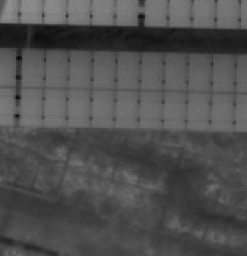solar: (18, 47, 47, 89), (42, 47, 71, 89), (66, 47, 95, 89), (90, 48, 119, 90), (114, 49, 143, 91), (137, 50, 166, 92), (161, 50, 190, 92), (185, 51, 214, 93), (209, 51, 238, 93), (16, 86, 45, 128), (41, 86, 70, 128), (63, 87, 92, 129), (89, 87, 118, 129), (112, 88, 141, 130), (136, 88, 165, 130), (160, 89, 189, 131), (184, 89, 213, 131), (208, 90, 237, 132)
